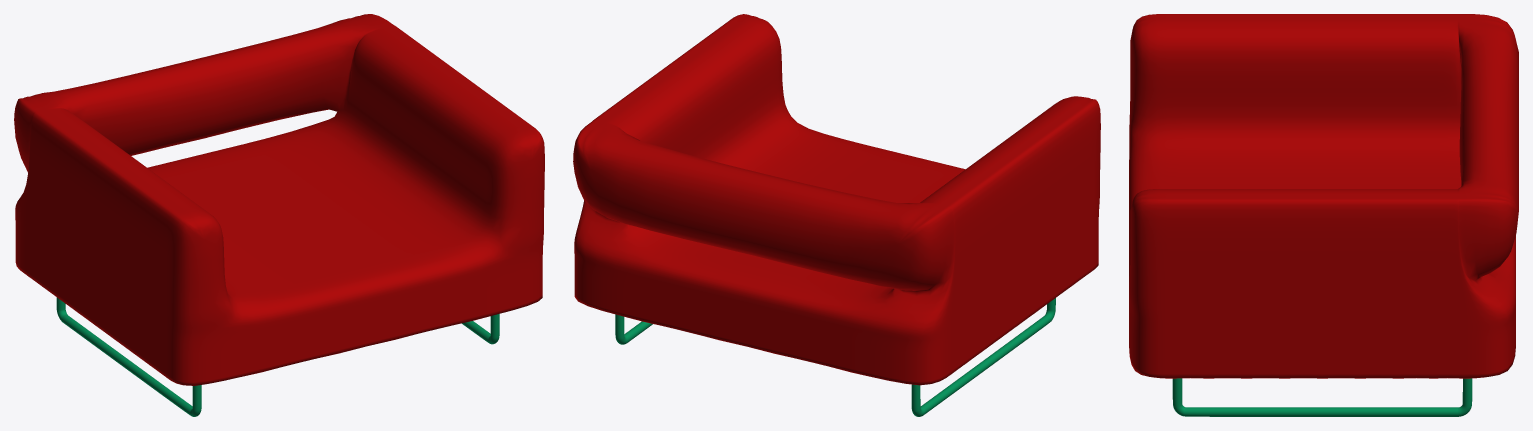
Rendered from fbx_SmallCanap.fbx.
3 renders of one model, left to right at view 1: azimuth 30°, elevation 25°; view 2: azimuth 150°, elevation 25°; view 3: azimuth 270°, elevation 25°, orthographic. The views are drawn at different scales.
Visible parts, largest first — view 1: pCube28; view 2: pCube28; view 3: pCube28.
Part boxes in pixels (x1,y1,x2,y2): pCube28: (14,14,544,416); pCube28: (573,14,1100,416); pCube28: (1129,14,1518,416).
Bounding box in the file's own units: 93.77 × 52.99 × 80.61.
